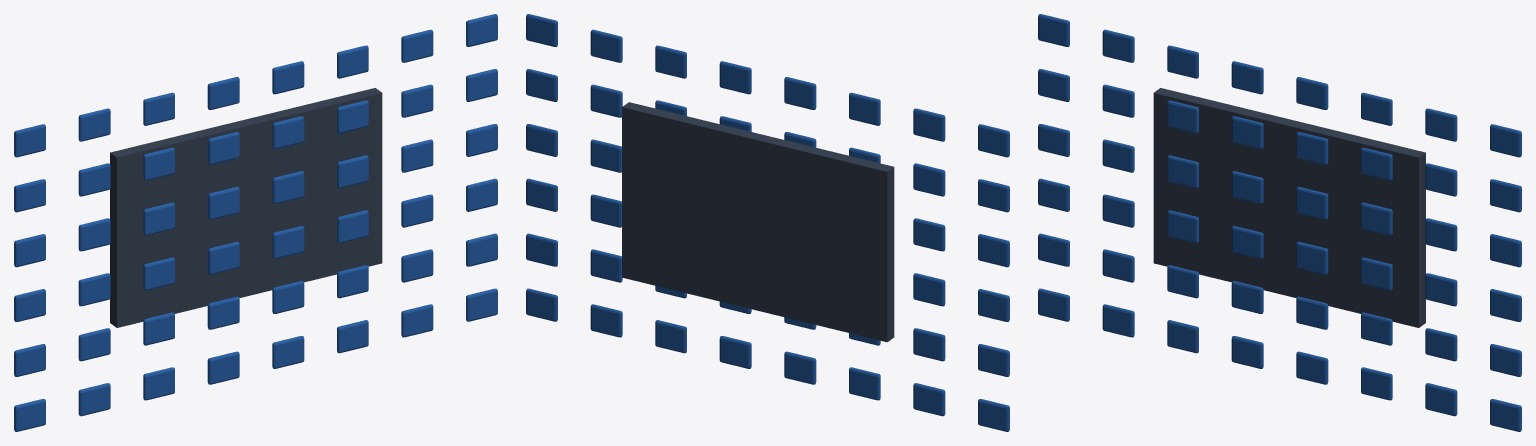
The model's file is PR3D_Environment_WallBlue.fbx.
3 renders of one model, left to right at view 1: azimuth 30°, elevation 25°; view 2: azimuth 150°, elevation 25°; view 3: azimuth 330°, elevation 25°, orthographic.
Visible parts, largest first — view 1: Visual_WallBacking, Visual_WallTile_01_01, Visual_WallTile_04_06, Visual_WallTile_00_01, Visual_WallTile_05_06, Visual_WallTile_00_03, Visual_WallTile_00_06, Visual_WallTile_01_04, Visual_WallTile_01_06, Visual_WallTile_02_06, Visual_WallTile_03_01, Visual_WallTile_04_01 (+37 smaller); view 2: Visual_WallBacking, Visual_WallTile_01_01, Visual_WallTile_00_01, Visual_WallTile_05_06, Visual_WallTile_00_03, Visual_WallTile_00_06, Visual_WallTile_03_01, Visual_WallTile_04_01, Visual_WallTile_05_01, Visual_WallTile_05_04, Visual_WallTile_02_01, Visual_WallTile_00_04 (+21 smaller); view 3: Visual_WallBacking, Visual_WallTile_01_06, Visual_WallTile_04_01, Visual_WallTile_00_06, Visual_WallTile_05_01, Visual_WallTile_00_01, Visual_WallTile_00_04, Visual_WallTile_01_01, Visual_WallTile_01_03, Visual_WallTile_02_01, Visual_WallTile_03_06, Visual_WallTile_04_04 (+37 smaller).
Boxes of the visible parts, left/top/right/bottom form: Visual_WallBacking: left=110, top=88, right=382, bottom=327; Visual_WallTile_01_01: left=78, top=328, right=110, bottom=361; Visual_WallTile_04_06: left=401, top=84, right=433, bottom=117; Visual_WallTile_00_01: left=78, top=383, right=110, bottom=416; Visual_WallTile_05_06: left=401, top=29, right=433, bottom=62; Visual_WallTile_00_03: left=207, top=351, right=239, bottom=384; Visual_WallTile_00_06: left=401, top=304, right=433, bottom=337; Visual_WallTile_01_04: left=272, top=281, right=304, bottom=313; Visual_WallTile_01_06: left=401, top=249, right=433, bottom=282; Visual_WallTile_02_06: left=401, top=194, right=433, bottom=227; Visual_WallTile_03_01: left=78, top=218, right=110, bottom=251; Visual_WallTile_04_01: left=78, top=163, right=110, bottom=196; Visual_WallBacking: left=622, top=102, right=894, bottom=342; Visual_WallTile_01_01: left=913, top=328, right=945, bottom=361; Visual_WallTile_00_01: left=913, top=383, right=945, bottom=416; Visual_WallTile_05_06: left=590, top=29, right=622, bottom=62; Visual_WallTile_00_03: left=784, top=351, right=816, bottom=384; Visual_WallTile_00_06: left=590, top=304, right=622, bottom=337; Visual_WallTile_03_01: left=913, top=218, right=945, bottom=251; Visual_WallTile_04_01: left=913, top=163, right=945, bottom=196; Visual_WallTile_05_01: left=913, top=108, right=945, bottom=141; Visual_WallTile_05_04: left=719, top=61, right=751, bottom=94; Visual_WallTile_02_01: left=913, top=273, right=945, bottom=306; Visual_WallTile_00_04: left=719, top=336, right=751, bottom=368; Visual_WallBacking: left=1153, top=88, right=1425, bottom=327; Visual_WallTile_01_06: left=1425, top=328, right=1457, bottom=361; Visual_WallTile_04_01: left=1102, top=84, right=1134, bottom=117; Visual_WallTile_00_06: left=1425, top=383, right=1457, bottom=416; Visual_WallTile_05_01: left=1102, top=29, right=1134, bottom=62; Visual_WallTile_00_01: left=1102, top=304, right=1134, bottom=337; Visual_WallTile_00_04: left=1296, top=351, right=1328, bottom=384; Visual_WallTile_01_01: left=1102, top=249, right=1134, bottom=282; Visual_WallTile_01_03: left=1231, top=281, right=1263, bottom=313; Visual_WallTile_02_01: left=1102, top=194, right=1134, bottom=227; Visual_WallTile_03_06: left=1425, top=218, right=1457, bottom=251; Visual_WallTile_04_04: left=1296, top=132, right=1328, bottom=164.
Bounding box in the file's own units: 4.01 × 2.39 × 0.2075.
